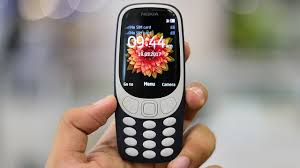nokia: (115, 1, 188, 166)
